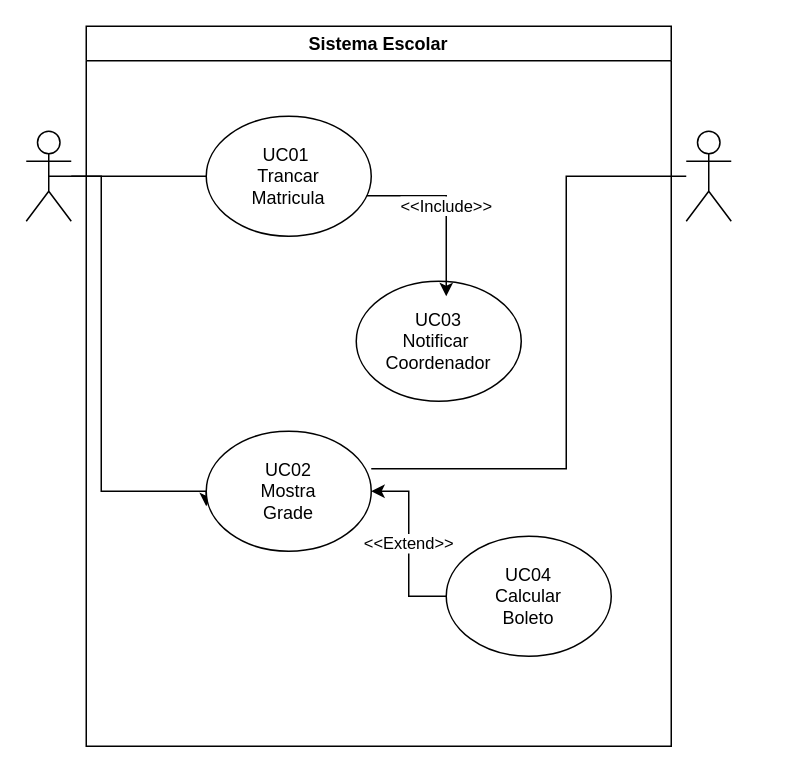
This 788x773 diagram has some shape labels left out. The shapes that lost their labels are listed below. From the top down, each one's centre as x and y in pixels, then its label:
the point at 48,175: Aluno
the point at 708,175: Coordenador
